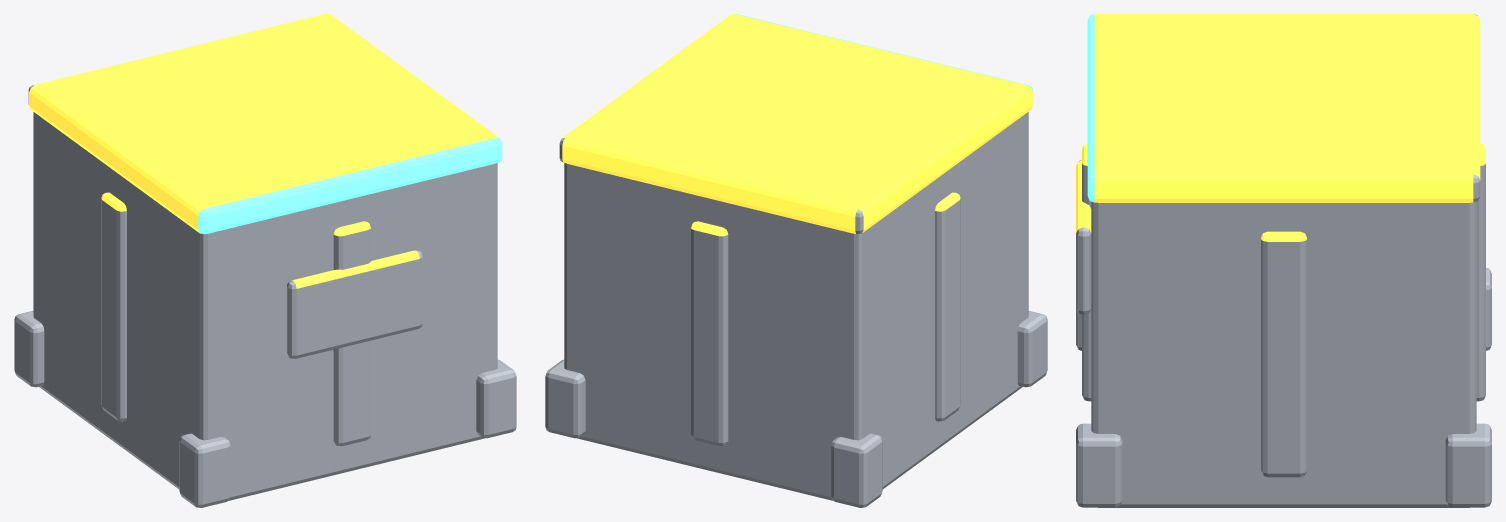
Rendered from Hangar_Crate.fbx.
3 renders of one model, left to right at view 1: azimuth 30°, elevation 25°; view 2: azimuth 150°, elevation 25°; view 3: azimuth 270°, elevation 25°, orthographic. The views are drawn at different scales.
Visible parts, largest first — view 1: Hangar_Crate; view 2: Hangar_Crate; view 3: Hangar_Crate.
Part boxes in pixels (x1,y1,x2,y2): Hangar_Crate: (14,14,516,507); Hangar_Crate: (545,14,1047,507); Hangar_Crate: (1076,14,1491,507).
Size of the model in its own units: 1.08 by 0.96 by 1.08.
